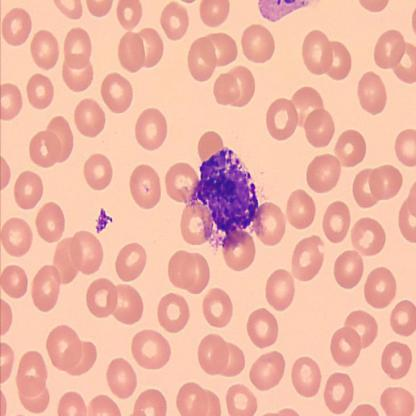Basophil: (192, 145, 261, 242)
